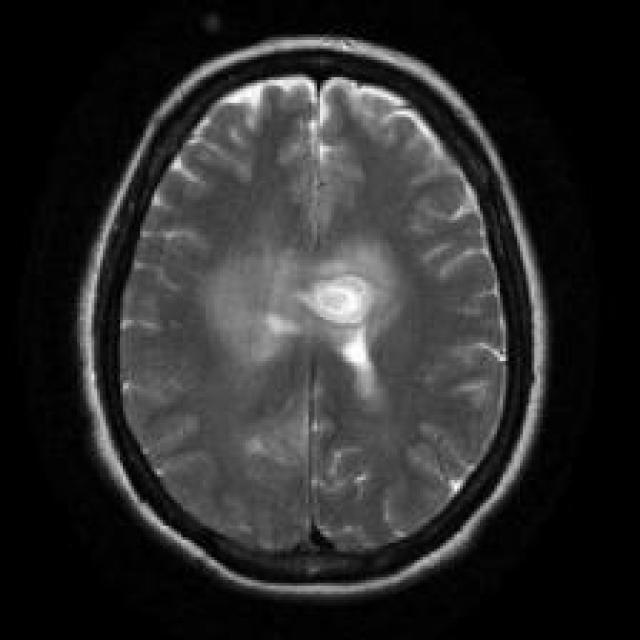Tumor: (309, 274, 377, 326), (337, 329, 352, 357)
